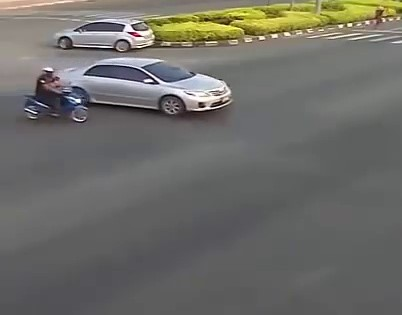car: (53, 56, 233, 115), (54, 19, 155, 50)
motorbike: (26, 66, 88, 122)
